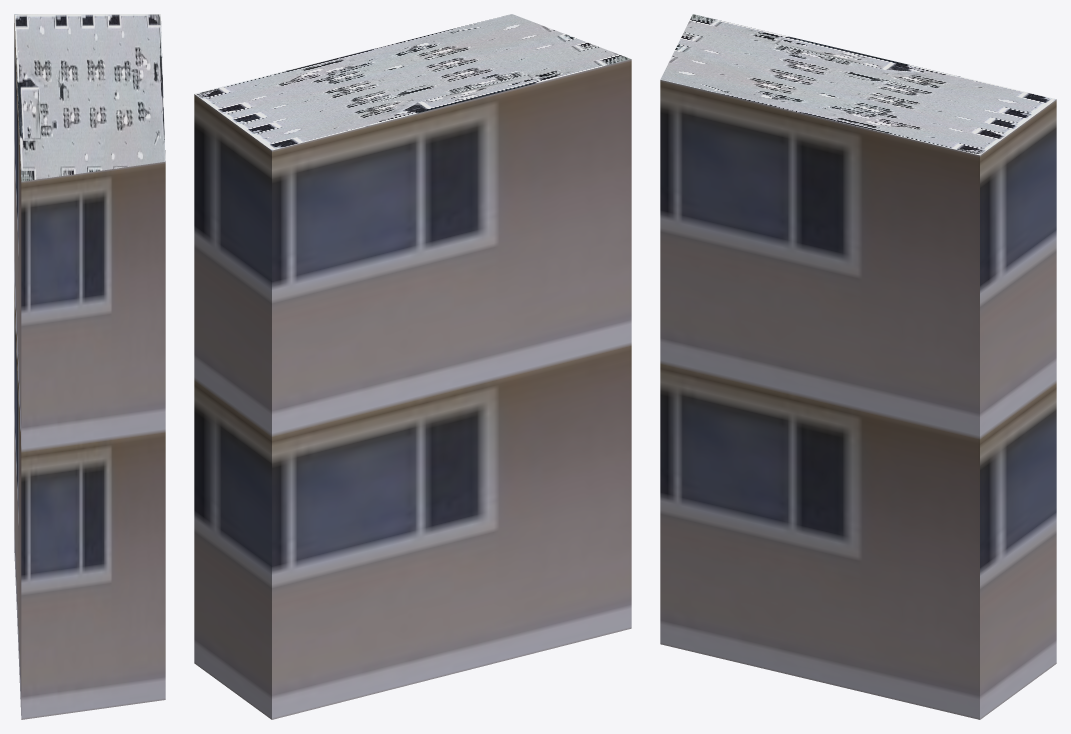
The model's file is ResTex__774.fbx.
3 views of the same model, side by side, from view 1: azimuth 30°, elevation 25°; view 2: azimuth 150°, elevation 25°; view 3: azimuth 270°, elevation 25° (orthographic). The views are drawn at different scales.
Visible parts, largest first — view 1: CityEngineMaterial_21_m, CityEngineMaterial_m; view 2: CityEngineMaterial_21_m, CityEngineMaterial_m; view 3: CityEngineMaterial_21_m, CityEngineMaterial_m.
Part boxes in pixels (bbox=[...]): CityEngineMaterial_21_m: bbox=[14, 15, 165, 719]; CityEngineMaterial_m: bbox=[14, 14, 165, 181]; CityEngineMaterial_21_m: bbox=[194, 59, 631, 719]; CityEngineMaterial_m: bbox=[195, 14, 631, 150]; CityEngineMaterial_21_m: bbox=[660, 80, 1056, 719]; CityEngineMaterial_m: bbox=[660, 14, 1056, 155].
Size of the model in its own units: 3.23 by 6 by 3.82.
2 materials, 2 textured.
